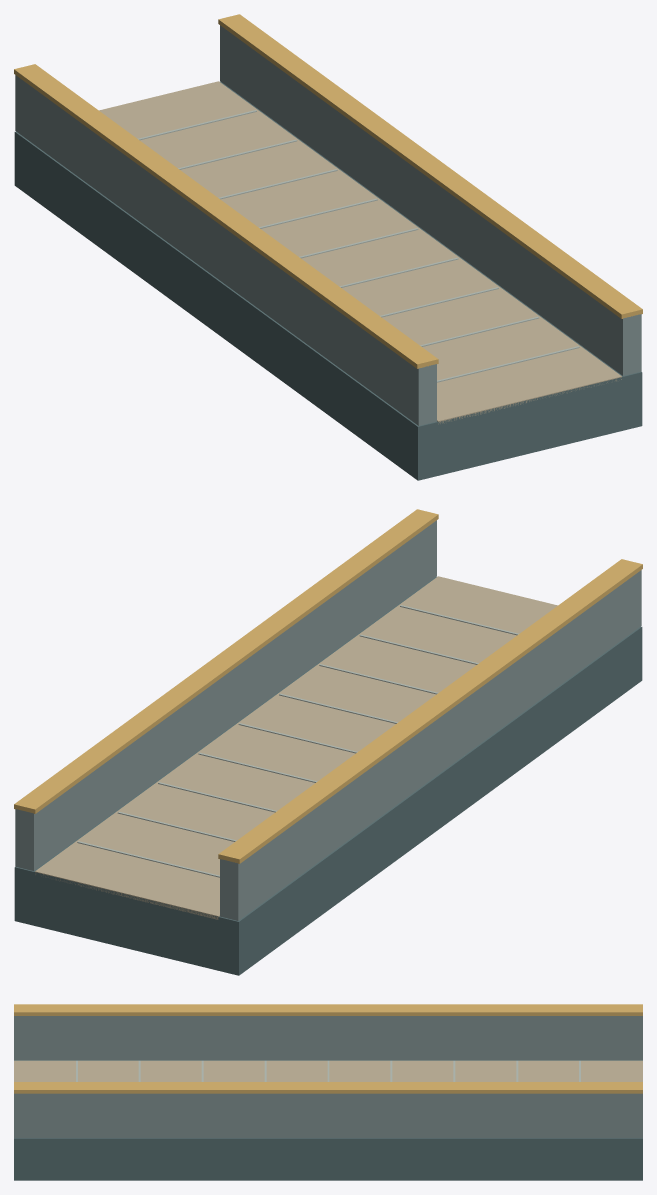
Rendered from SM_R02B_Corridor_2_3.fbx.
3 views of the same model, one above another, from view 1: azimuth 30°, elevation 25°; view 2: azimuth 150°, elevation 25°; view 3: azimuth 270°, elevation 25° (orthographic). The views are drawn at different scales.
Parts seen in each view (by area): view 1: SM_R02B_Corridor_2_3; view 2: SM_R02B_Corridor_2_3; view 3: SM_R02B_Corridor_2_3.
Part boxes in pixels (x1=…): SM_R02B_Corridor_2_3: x1=14, y1=14, x2=642, y2=480; SM_R02B_Corridor_2_3: x1=14, y1=509, x2=642, y2=975; SM_R02B_Corridor_2_3: x1=14, y1=1004, x2=642, y2=1180.
Size of the model in its own units: 614 by 1900 by 303.
